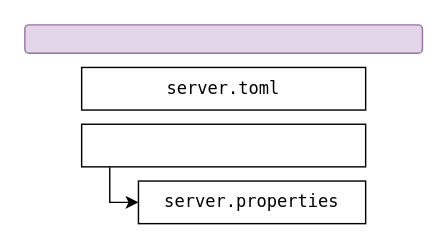
The diagram is 447 pixels wide and 249 high, and some of its shapes have lost their labels. Here are the shapes that lost their labels. From the top down, the box of each, then its label:
(23, 23, 422, 53): Files
(80, 123, 366, 167): config/
